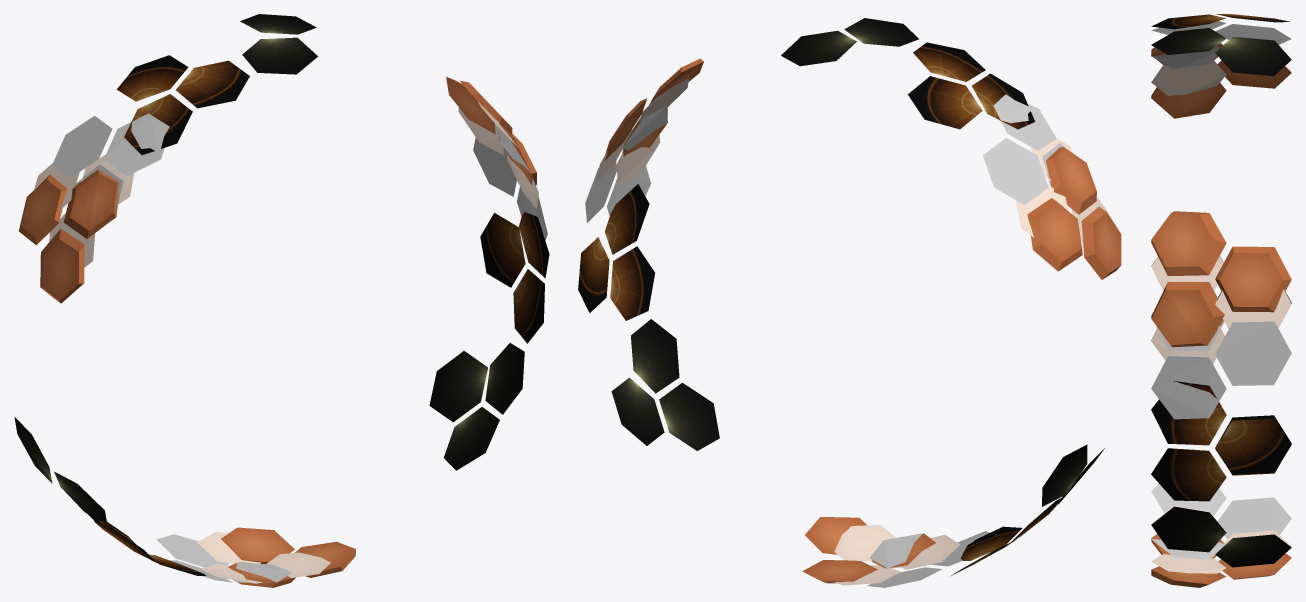
Rendered from tx_knight_wudi_keep.obj.
3 views of the same model, side by side, from view 1: azimuth 30°, elevation 25°; view 2: azimuth 150°, elevation 25°; view 3: azimuth 270°, elevation 25° (orthographic).
Visible parts, largest first — view 1: Object122, Object134, Object132, Object131, Object129, Object120, Object135, Object125, Object128, Object121, Object130, Object126 (+3 smaller); view 2: Object134, Object122, Object131, Object132, Object129, Object135, Object120, Object125, Object128, Object130, Object127, Object121 (+3 smaller); view 3: Object121, Object131, Object128, Object134, Object130, Object135, Object127, Object122, Object129, Object120, Object126, Object125 (+2 smaller).
Boxes of the visible parts, x1,y1,x2,y2 form: Object122: (19, 169, 118, 303); Object134: (429, 343, 524, 470); Object132: (117, 55, 249, 155); Object131: (480, 212, 549, 343); Object129: (52, 113, 169, 219); Object120: (221, 527, 355, 587); Object135: (240, 14, 317, 74); Object125: (197, 531, 330, 583); Object128: (473, 127, 547, 240); Object121: (446, 76, 536, 184); Object130: (156, 534, 292, 582); Object126: (33, 154, 134, 267); Object134: (611, 319, 719, 450); Object122: (1027, 147, 1121, 279); Object131: (578, 184, 654, 320); Object132: (908, 42, 1035, 129); Object129: (983, 94, 1064, 204); Object135: (781, 18, 918, 66); Object120: (802, 517, 935, 583); Object125: (834, 524, 960, 585); Object128: (585, 106, 667, 222); Object130: (867, 531, 996, 587); Object127: (597, 78, 689, 183); Object121: (605, 58, 703, 160); Object121: (1151, 211, 1291, 347); Object131: (1151, 381, 1291, 501); Object128: (1151, 313, 1291, 419); Object134: (1151, 506, 1291, 567); Object130: (1151, 484, 1291, 559); Object135: (1151, 28, 1291, 76); Object127: (1151, 256, 1291, 363); Object122: (1151, 44, 1291, 118); Object129: (1151, 21, 1291, 69); Object120: (1151, 534, 1291, 587); Object126: (1151, 38, 1226, 95); Object125: (1151, 506, 1291, 573).
Bounding box in the file's own units: 94.85 × 96.84 × 23.34.
